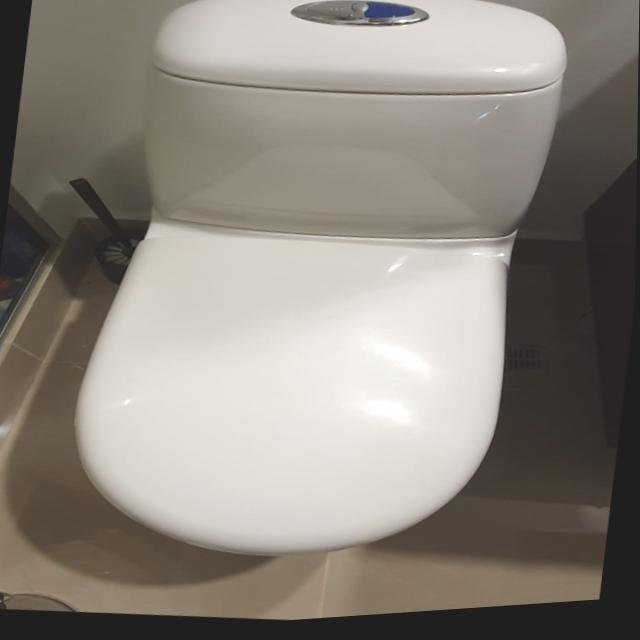toilet: (57, 0, 575, 597)
